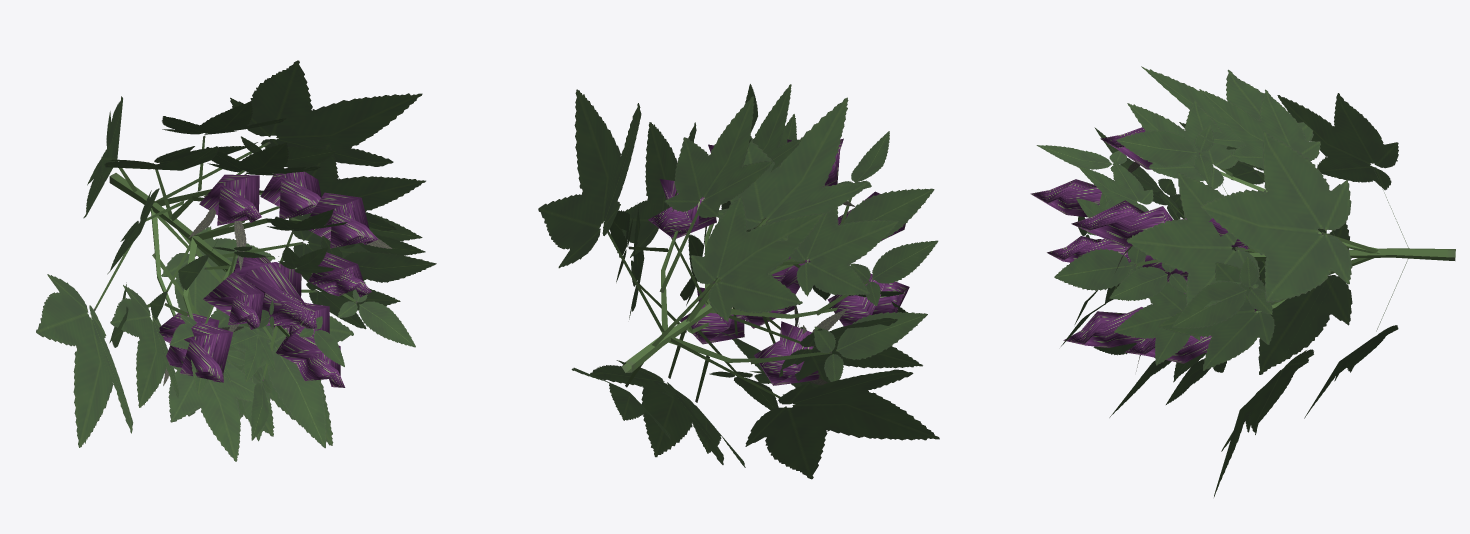
File: p_purple_afghan_flowering_c0_cards.obj
3 renders of one model, left to right at view 1: azimuth 30°, elevation 25°; view 2: azimuth 150°, elevation 25°; view 3: azimuth 270°, elevation 25°, orthographic. The views are drawn at different scales.
Size of the model in its own units: 1.54 by 1.44 by 1.21.
1 material, 1 textured.
